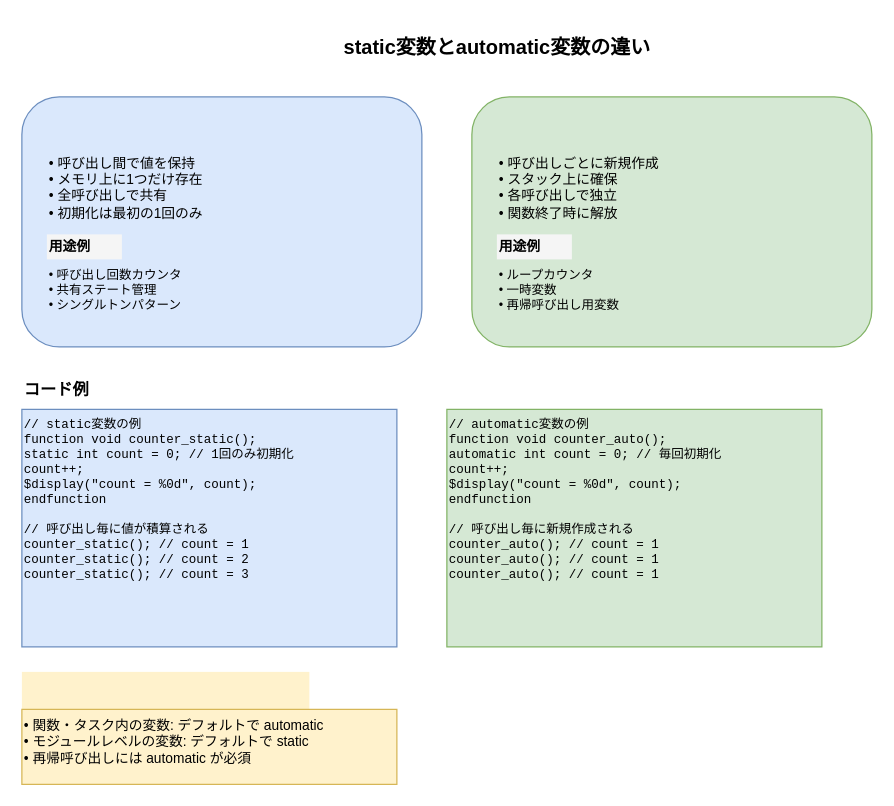
Some shapes in this 894 by 806 pixel diagram are drawn without their labels. The box of each missing label's shape, as (x1, y1, x2, y2) in pixels:
automatic変数: (471, 96, 872, 347)
static変数: (21, 96, 422, 347)
重要: 関数内変数のデフォルト: (21, 671, 309, 709)
